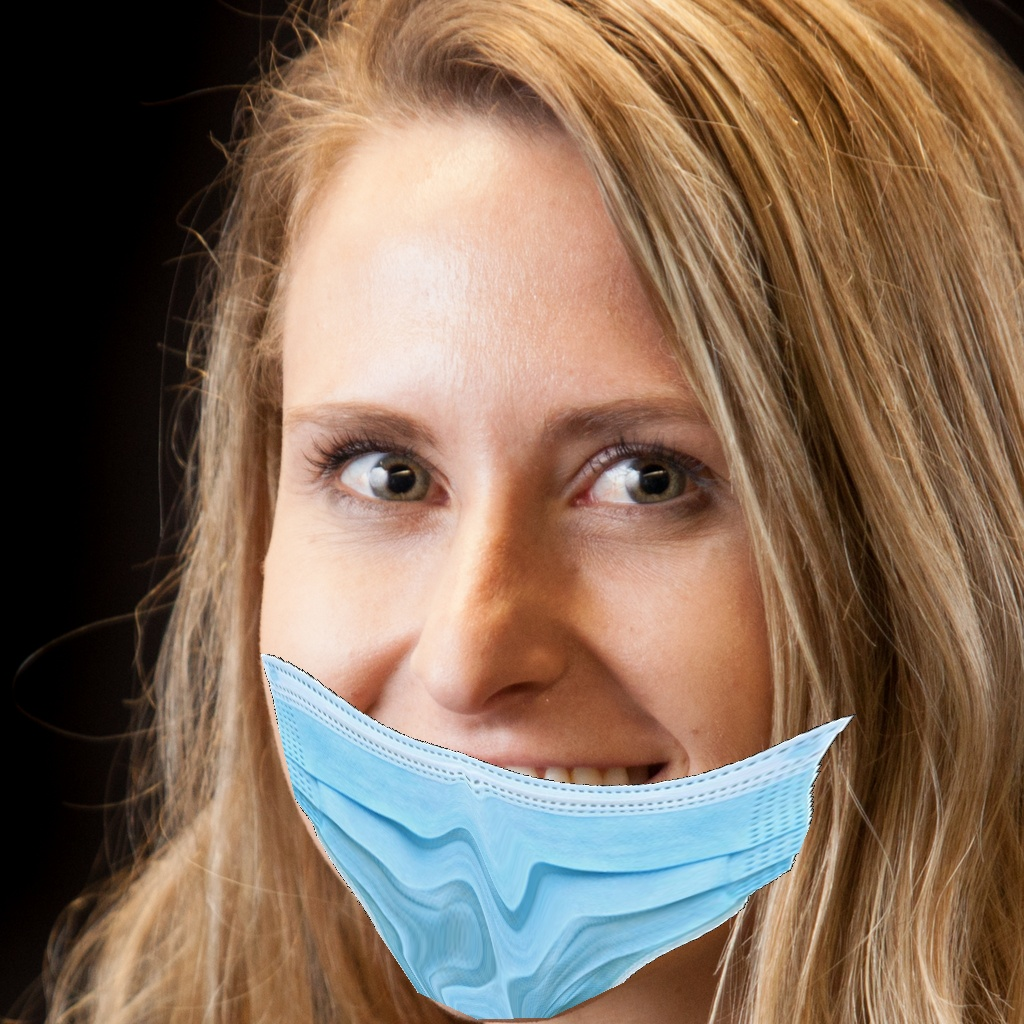mascarilla_mal_puesta: (292, 353, 859, 998)
